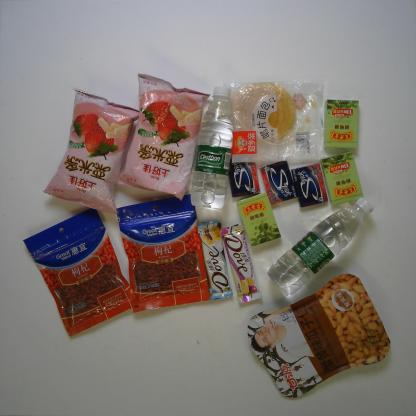Candy: (319, 150, 365, 206), (236, 191, 282, 246), (321, 96, 361, 152)
Chocolate: (218, 221, 264, 304), (195, 218, 233, 303)
Dessert: (223, 79, 324, 162)
Dried Fruit: (245, 270, 391, 398), (21, 207, 140, 338), (114, 192, 212, 314)
Drink: (265, 196, 374, 298), (190, 83, 233, 211)
Gum: (258, 158, 298, 206), (290, 161, 328, 209), (226, 160, 262, 200)
Puffed Food: (42, 85, 142, 214), (115, 72, 212, 200)
